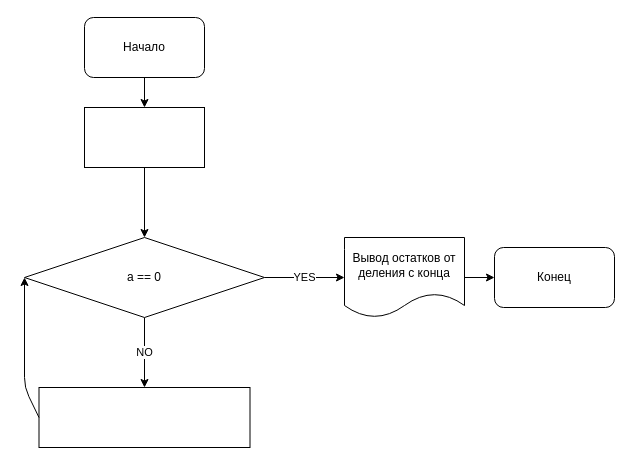
Image size: 632x465. Some labels were removed from this diagram. Here are the shapes that lost their labels. From the top down, the box of each, then its label:
(84, 106, 204, 168): a remain
(38, 386, 250, 448): remain = a % 2 + remane a /= 2
